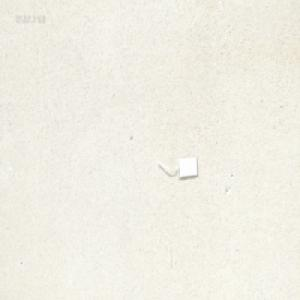LuggageTag: (157, 154, 198, 180)
